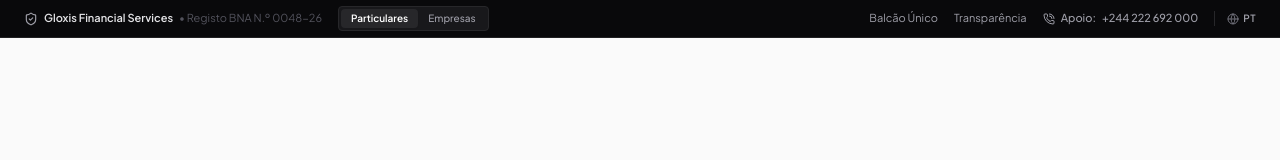
Scenario: TopHeader Component › toggles language between PT and EN
This screenshot has width=1280, height=160.
Click the button with test id "btn-lang-toggle" at [1250, 18], box [1243, 11, 1256, 26]
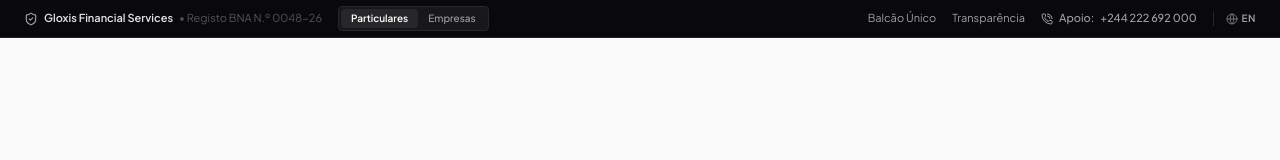
Check: the button with test id "btn-lang-toggle" reads "EN", box [1242, 11, 1256, 26]
